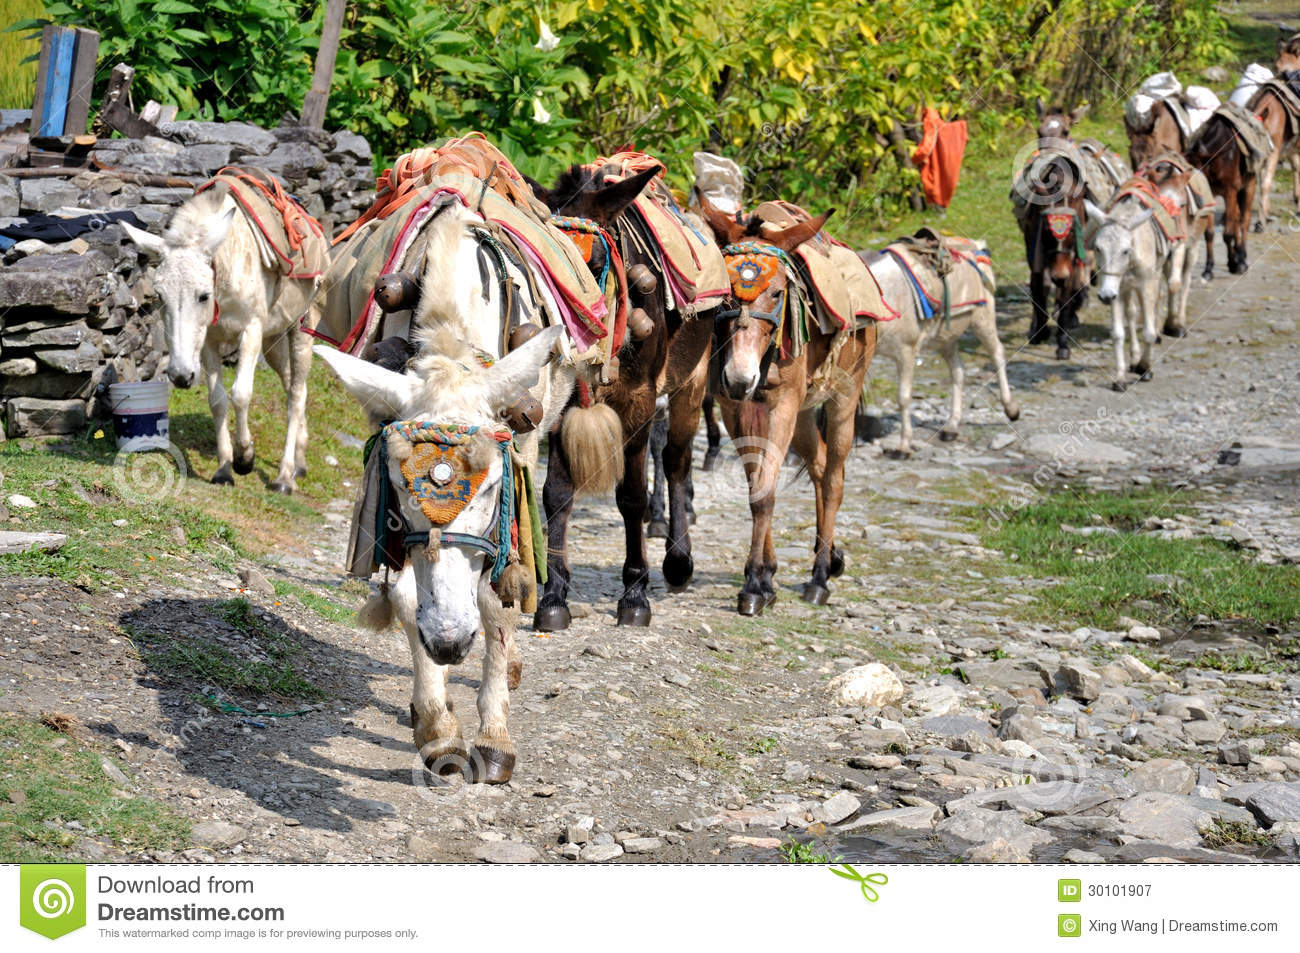equine: (311, 125, 613, 809), (529, 141, 758, 662), (674, 180, 898, 620), (117, 144, 365, 518), (855, 211, 1041, 468), (1063, 144, 1252, 375), (988, 92, 1127, 360), (1189, 99, 1281, 281), (1112, 60, 1222, 196)
